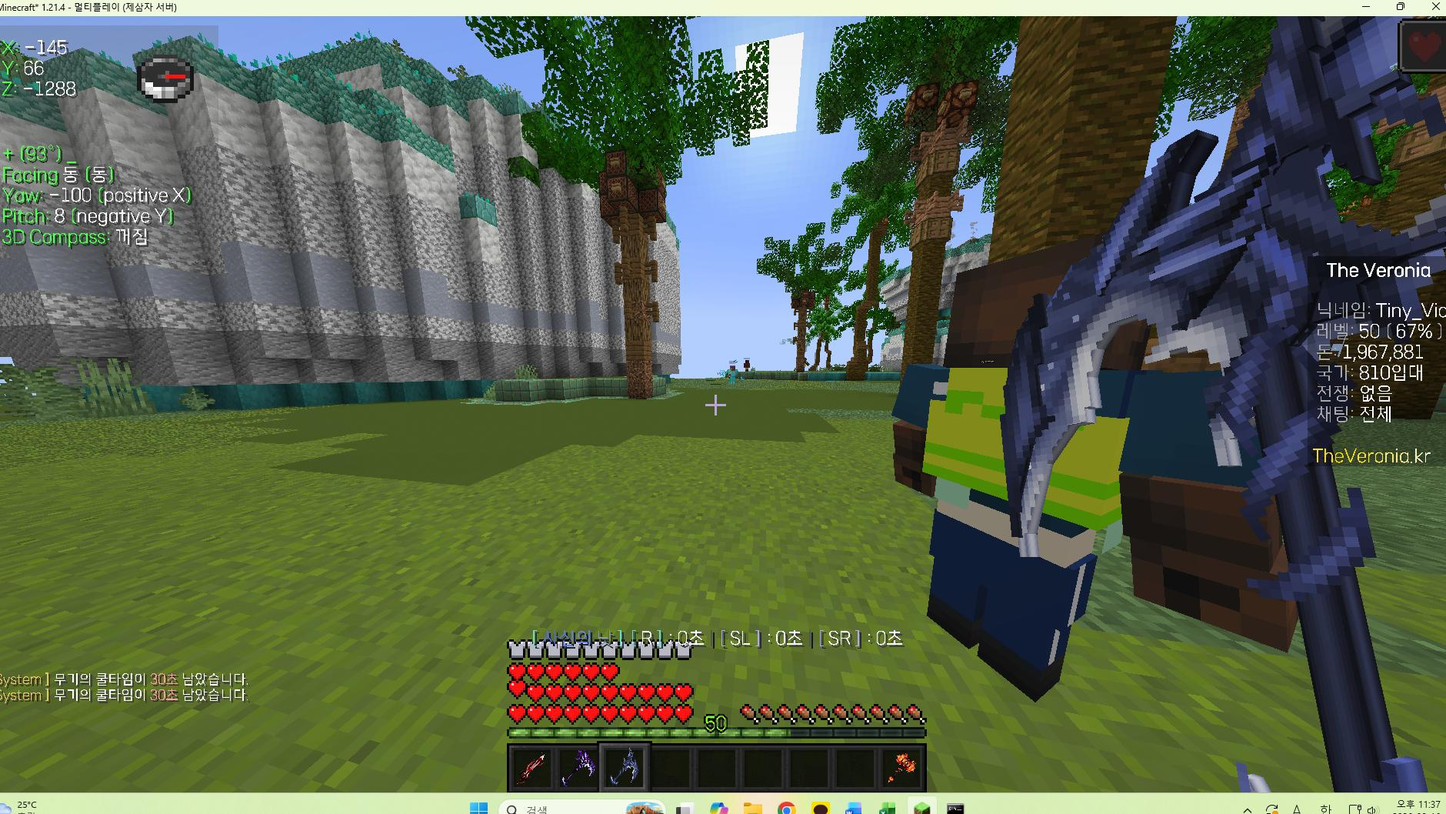Guardian: (894, 236, 1296, 699)
